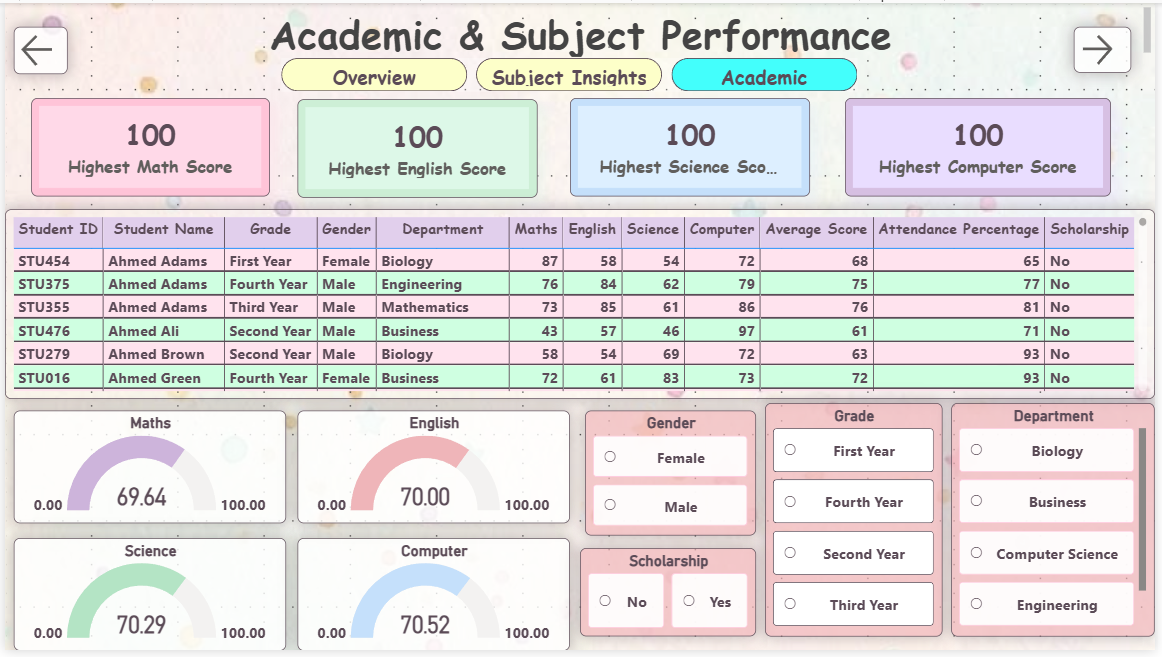

The page's visual inventory and layout, read from the dashboard file:
{"tool":"powerbi","page":{"name":"Academic","canvas":[1280,720],"ordinal":2},"visuals":[{"type":"textbox","box":[9.7,0,1270.3,65.4],"z":0},{"type":"cardVisual","fields":{"Data":["Sheet1.Highest Math Score"]},"box":[29.2,105.7,265.7,109.9],"z":1000},{"type":"cardVisual","fields":{"Data":["Sheet1.Highest English Score"]},"box":[325.6,107.1,267.1,109.9],"z":2000},{"type":"cardVisual","fields":{"Data":["Sheet1.Highest Science Score"]},"box":[628.9,105.7,267.1,109.9],"z":3000},{"type":"cardVisual","fields":{"Data":["Sheet1.Highest Computer Score"]},"box":[935,105.7,296.3,109.9],"z":4000},{"type":"tableEx","fields":{"Values":["Sheet1.Student ID","Sheet1.Student Name","Sheet1.Grade","Sheet1.Gender","Sheet1.Department","Sheet1.Maths","Sheet1.English","Sheet1.Science","Sheet1.Computer","Sheet1.Average  Score","Sheet1.Attendance Percentage","Sheet1.Scholarship"]},"box":[0,229.6,1280,211.5],"z":5000},{"type":"gauge","title":"Maths","fields":{"Y":["Sheet1.Average Maths"]},"box":[9.7,453.6,303.3,125.2],"z":6000},{"type":"gauge","title":"Science","fields":{"Y":["Sheet1.Average Science"]},"box":[9.7,595.5,303.3,125.2],"z":7000},{"type":"gauge","title":"Computer","fields":{"Y":["Sheet1.Average Computer"]},"box":[325.6,595.5,303.3,125.2],"z":8000},{"type":"gauge","title":"English","fields":{"Y":["Sheet1.Average English"]},"box":[325.6,453.6,303.3,125.2],"z":9000},{"type":"advancedSlicerVisual","fields":{"Values":["Sheet1.Grade"]},"box":[845.9,445.2,197.6,260.2],"z":10000},{"type":"advancedSlicerVisual","fields":{"Values":["Sheet1.Gender"]},"box":[645.6,453.6,190.6,139.1],"z":11000},{"type":"advancedSlicerVisual","fields":{"Values":["Sheet1.Scholarship"]},"box":[640,606.6,196.2,98.8],"z":12000},{"type":"advancedSlicerVisual","fields":{"Values":["Sheet1.Department"]},"box":[1053.2,445.2,226.8,260.2],"z":13000},{"type":"actionButton","box":[1189.6,26.4,64,51.5],"z":14000},{"type":"actionButton","box":[9.7,26.4,59.8,52.9],"z":15000},{"type":"pageNavigator","box":[307.5,61.2,641.4,37.6],"z":16000}]}

Visuals, with their boxes in screenshot pixels (x1, y1, x2, y2), scaled from the page's 1280x720 canvas onto the 1162x657 screenshot:
textbox: [left=9, top=0, right=1161, bottom=60]
cardVisual - Sheet1.Highest Math Score: [left=27, top=96, right=268, bottom=197]
cardVisual - Sheet1.Highest English Score: [left=296, top=98, right=538, bottom=198]
cardVisual - Sheet1.Highest Science Score: [left=571, top=96, right=813, bottom=197]
cardVisual - Sheet1.Highest Computer Score: [left=849, top=96, right=1118, bottom=197]
tableEx - Sheet1.Student ID x Sheet1.Student Name: [left=0, top=210, right=1161, bottom=403]
"Maths" gauge: [left=9, top=414, right=284, bottom=528]
"Science" gauge: [left=9, top=543, right=284, bottom=656]
"Computer" gauge: [left=296, top=543, right=571, bottom=656]
"English" gauge: [left=296, top=414, right=571, bottom=528]
advancedSlicerVisual - Sheet1.Grade: [left=768, top=406, right=947, bottom=644]
advancedSlicerVisual - Sheet1.Gender: [left=586, top=414, right=759, bottom=541]
advancedSlicerVisual - Sheet1.Scholarship: [left=581, top=554, right=759, bottom=644]
advancedSlicerVisual - Sheet1.Department: [left=956, top=406, right=1161, bottom=644]
actionButton: [left=1080, top=24, right=1138, bottom=71]
actionButton: [left=9, top=24, right=63, bottom=72]
pageNavigator: [left=279, top=56, right=861, bottom=90]
